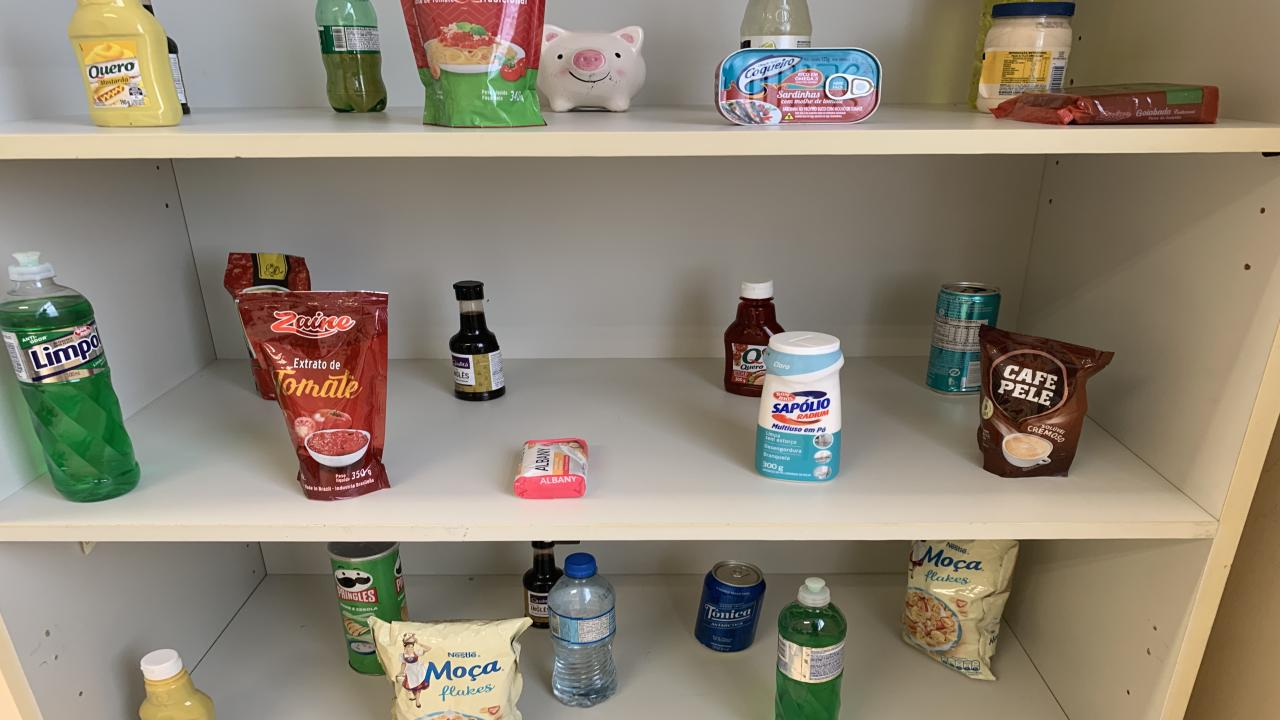Cleaner-Cleanup_Items: (755, 332, 845, 482)
Coffee-Pantry_Items: (978, 326, 1112, 478)
Detergent-Cleanup_Items: (0, 276, 140, 502), (775, 578, 848, 720)
English_Sauce-Pantry_Items: (450, 279, 505, 401), (522, 542, 562, 628), (168, 38, 190, 114)
Flakes-Snacks: (370, 617, 530, 720), (902, 540, 1018, 681)
Guarana-Drinks: (315, 0, 388, 112)
Guava-Snacks: (992, 82, 1218, 126)
Ketchup-Pantry_Items: (725, 279, 782, 398)
Mayonnaise-Pantry_Items: (975, 2, 1075, 112)
Mustard-Pantry_Items: (68, 0, 182, 128), (140, 649, 215, 720)
Pig_Safe-Miscellaneous: (538, 24, 645, 112)
Pringles-Snacks: (328, 542, 408, 675)
Soap-Cleanup_Items: (515, 439, 588, 499)
Soda-Drinks: (740, 0, 812, 49)
Tea-Drinks: (925, 283, 1000, 396)
Tomato_Sauce-Pantry_Items: (238, 291, 390, 501), (402, 0, 545, 128), (225, 253, 310, 298), (245, 336, 275, 399)
Tonic-Drinks: (695, 561, 765, 652)
Tuna_Can-Pantry_Items: (715, 47, 880, 126)
Water_Bottle-Drinks: (548, 553, 618, 707)
